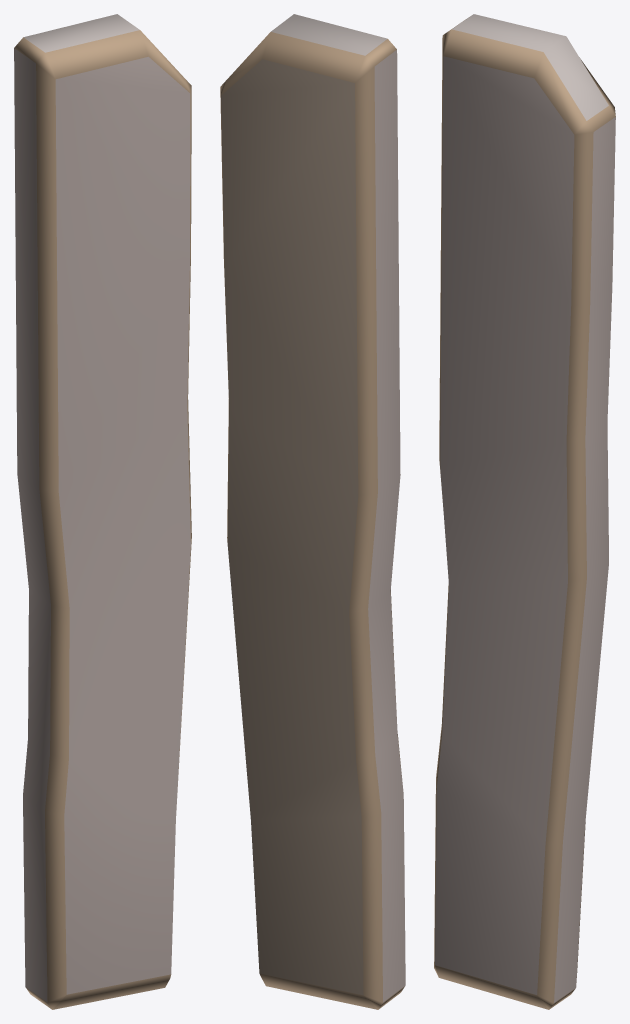
File: post_1.glb
3 views of the same model, side by side, from view 1: azimuth 30°, elevation 25°; view 2: azimuth 150°, elevation 25°; view 3: azimuth 330°, elevation 25° (orthographic). The views are drawn at different scales.
Visible parts, largest first — view 1: post; view 2: post; view 3: post.
Part boxes in pixels (x1,y1,x2,y2): post: (14,14,191,1009); post: (220,14,405,1009); post: (434,14,615,1009).
Bounding box in the file's own units: 0.1792 × 1.06 × 0.1028.
